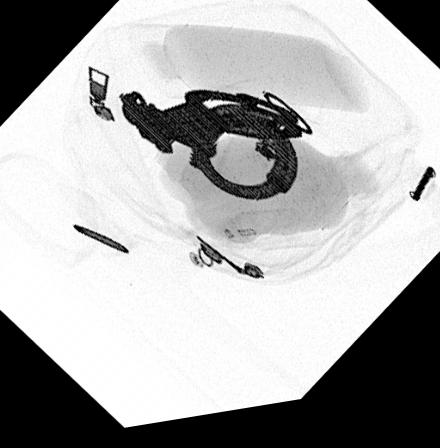HandCuffs: (116, 94, 317, 212)
